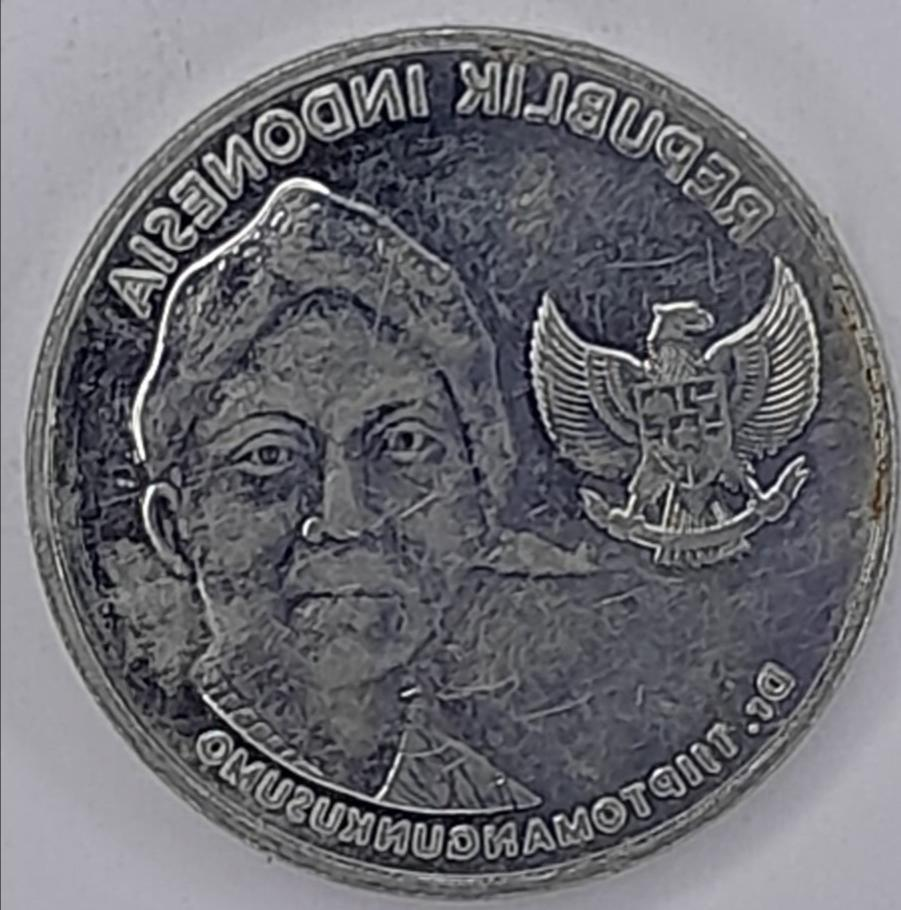coin_200_e2016: (0, 16, 901, 910)
